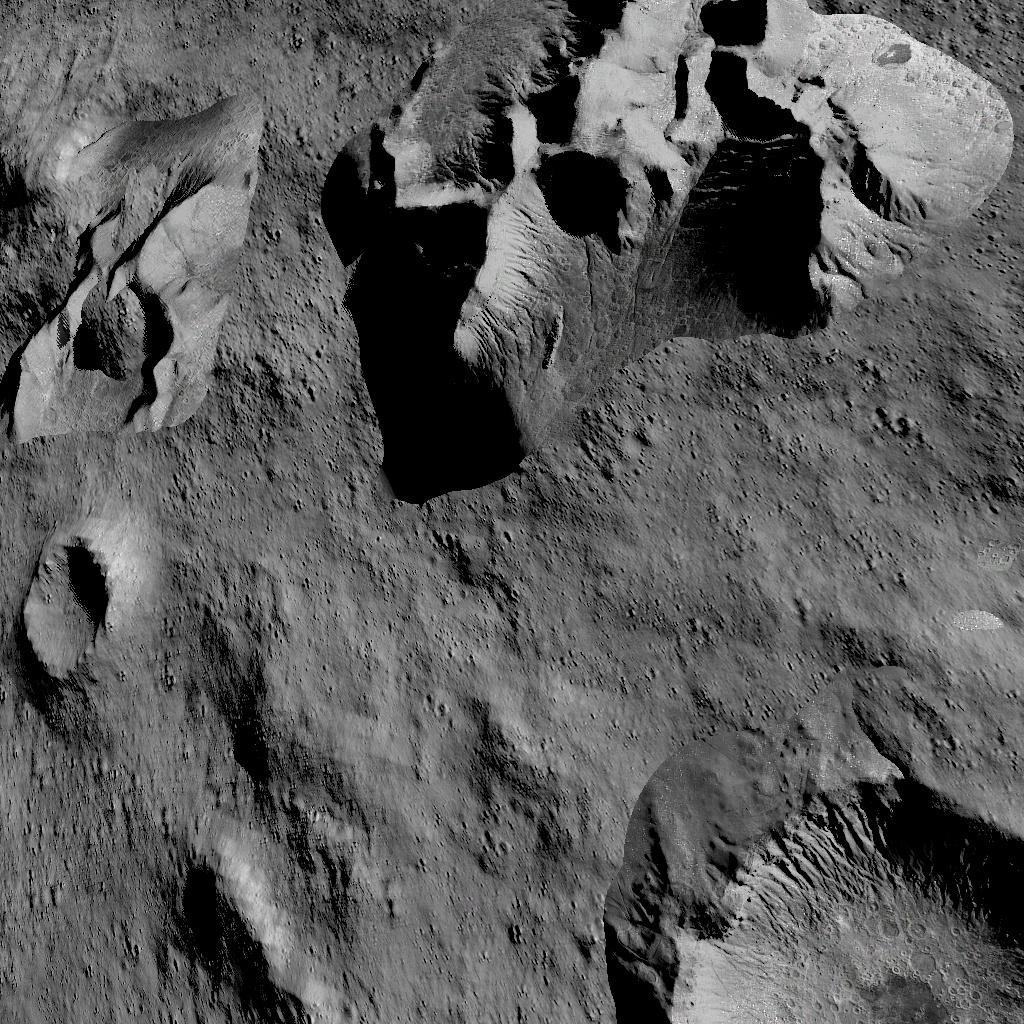Boulders: (319, 0, 1021, 502), (0, 84, 272, 450)
Crater: (617, 740, 1024, 1024), (3, 516, 136, 686)
Plan surface: (323, 516, 1020, 729), (331, 748, 602, 1024)
